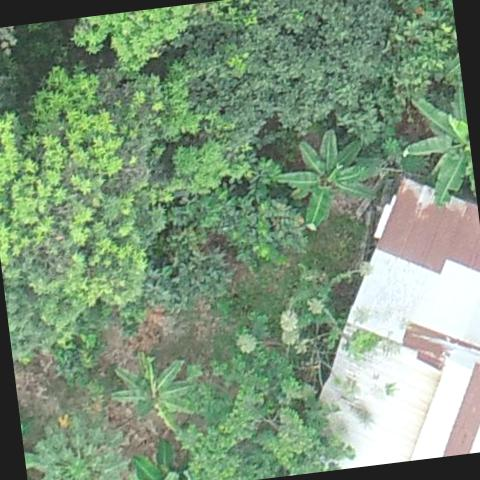Banana-plant: (264, 122, 381, 237), (394, 82, 478, 214), (103, 342, 202, 444)
